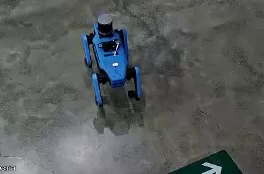robot dog: (74, 13, 156, 115)
